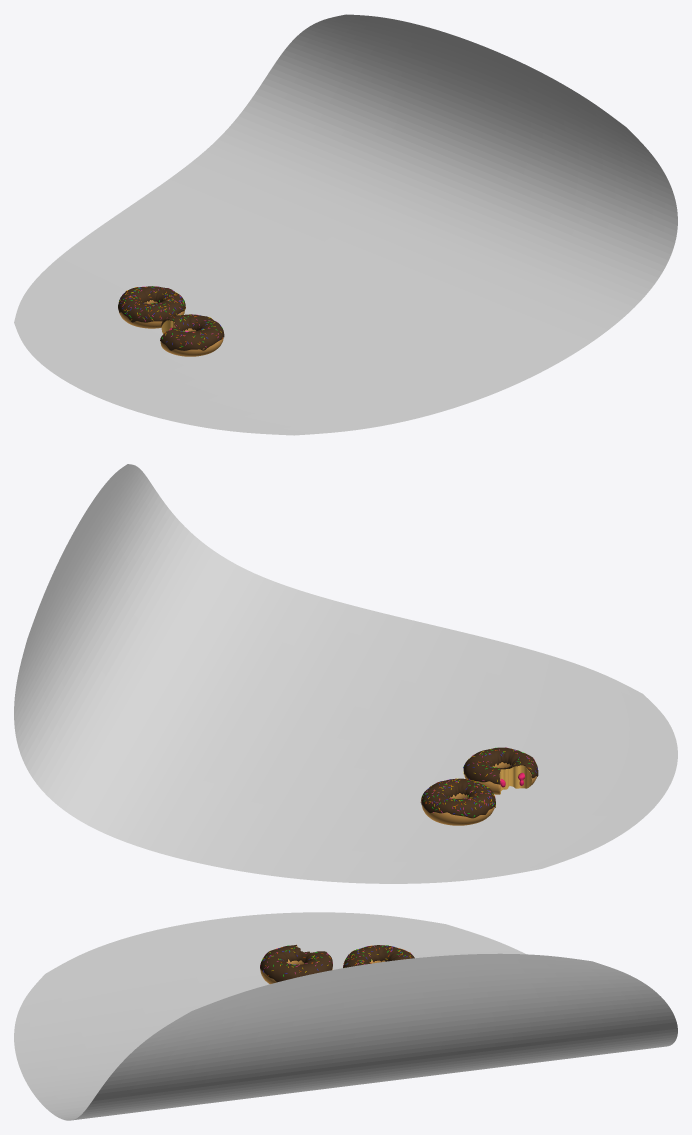
The model's file is Donuts.fbx.
The picture shows the model from 3 angles, top to bottom: view 1: azimuth 30°, elevation 25°; view 2: azimuth 150°, elevation 25°; view 3: azimuth 270°, elevation 25°; orthographic projection. The views are drawn at different scales.
Parts seen in each view (by area): view 1: Plane, Torus.001, Torus.002; view 2: Plane, Torus.001, Torus.002, Torus.003, Torus; view 3: Plane, Torus.002, Torus.001.
Part boxes in pixels (box(x1,y1,x2,y2)): Plane: box(14, 14, 677, 435); Torus.001: box(118, 286, 185, 322); Torus.002: box(160, 314, 224, 350); Plane: box(14, 464, 677, 883); Torus.001: box(421, 778, 495, 818); Torus.002: box(463, 747, 538, 784); Torus.003: box(464, 762, 536, 794); Torus: box(422, 793, 494, 825); Plane: box(14, 912, 677, 1120); Torus.002: box(260, 945, 332, 982); Torus.001: box(343, 945, 414, 967).
Bounding box in the file's own units: 1951 × 648 × 1961.
